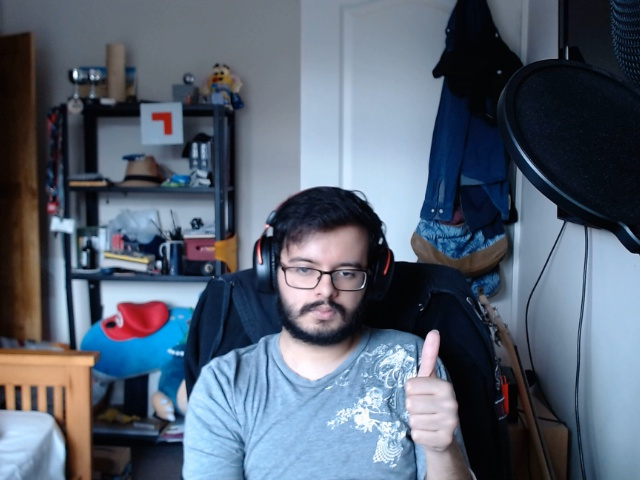Thumbs up: (399, 318, 462, 457)
